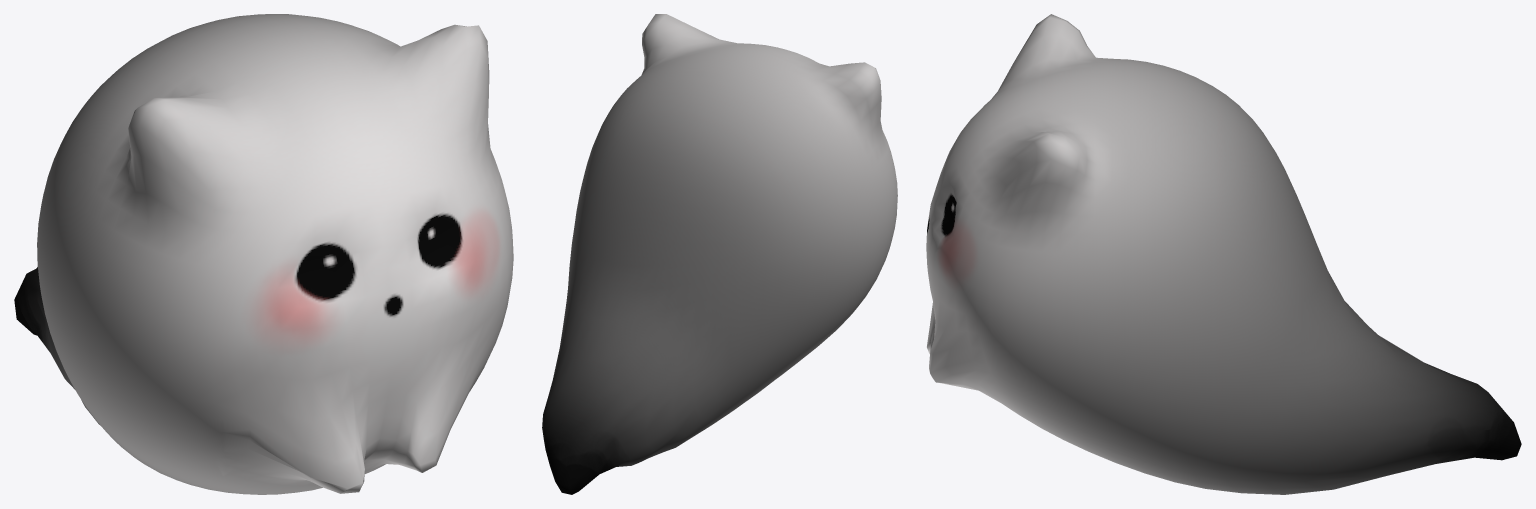
3 views of the same model, side by side, from view 1: azimuth 30°, elevation 25°; view 2: azimuth 150°, elevation 25°; view 3: azimuth 270°, elevation 25° (orthographic). The views are drawn at different scales.
Visible parts, largest first — view 1: cat_C_geo; view 2: cat_C_geo; view 3: cat_C_geo.
Boxes of the visible parts, left/top/right/bottom form: cat_C_geo: left=14, top=14, right=513, bottom=494; cat_C_geo: left=542, top=14, right=897, bottom=494; cat_C_geo: left=926, top=14, right=1521, bottom=494.
Size of the model in its own units: 3.84 by 4.58 by 6.19.
1 material, 1 textured.
